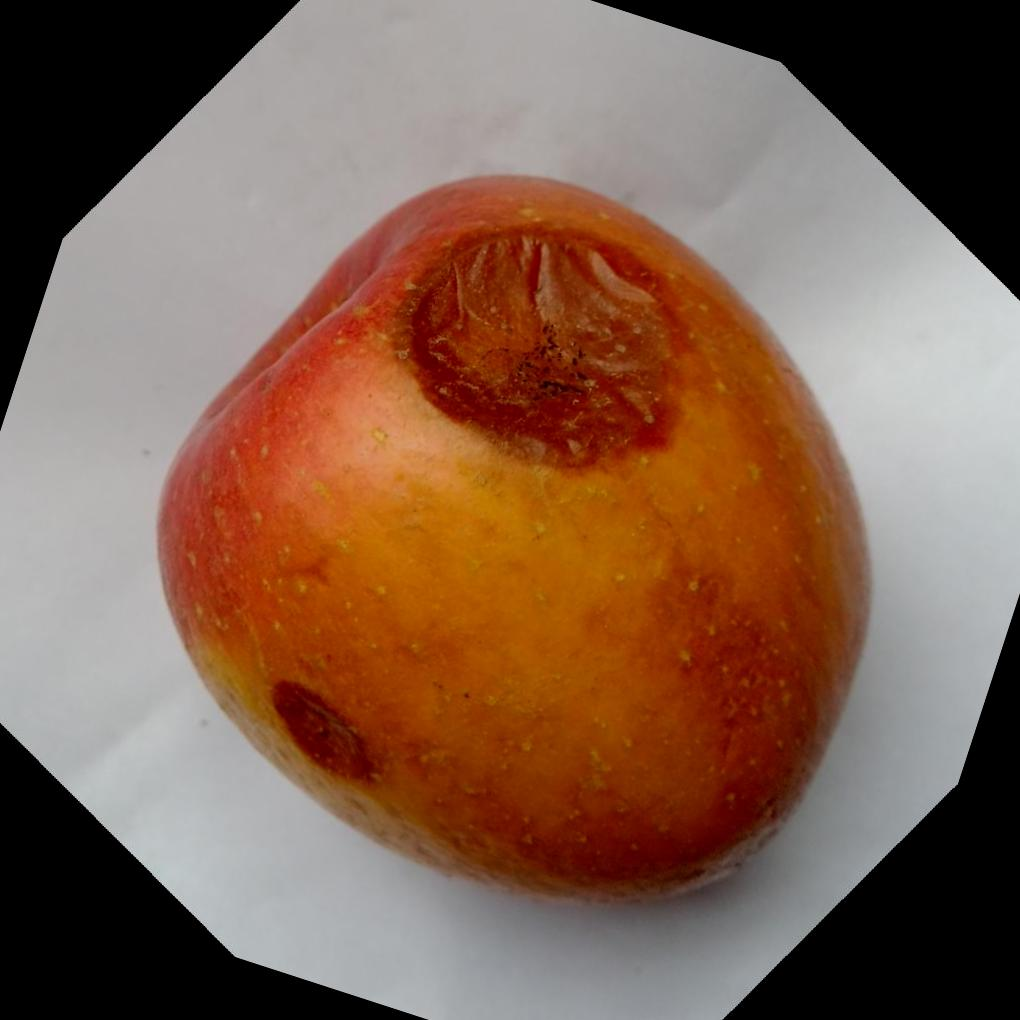FreshOrange: (144, 172, 872, 913)
